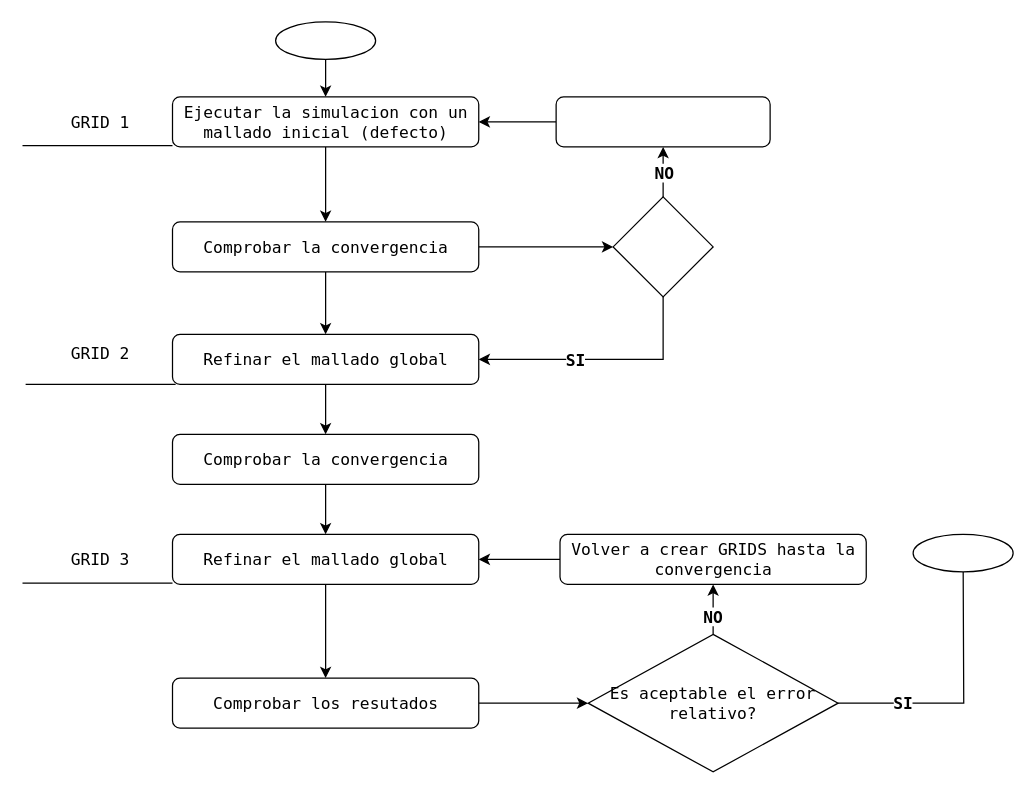
The diagram is 1035 pixels wide and 794 high, and some of its shapes have lost their labels. Here are the shapes that lost their labels. From the top down, the centre of each, then its label:
(x=325, y=40): INICIO
(x=662, y=121): Revisar el modelo / condiciones contorno
(x=662, y=246): Converge?
(x=962, y=552): FIN
